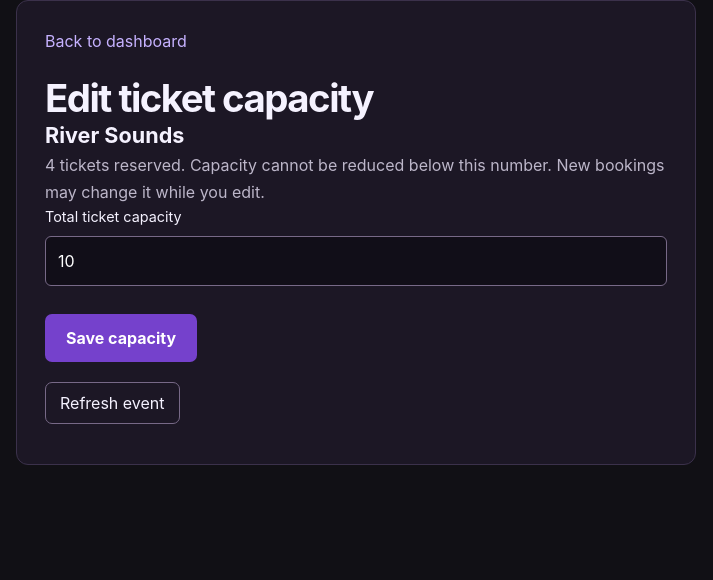
Test: rejects reductions below reserved tickets and shows a server conflict after concurrent bookings
Later steps or results of the test are not shown.
Replace the text in the number field with id "capacity" with "3" at (356, 261), box [45,236,667,286]
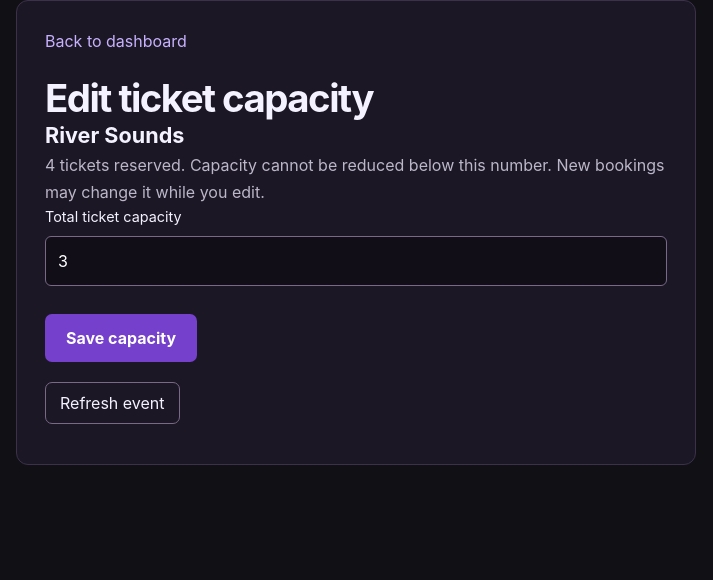
Submit the form, box [45,119,667,374]
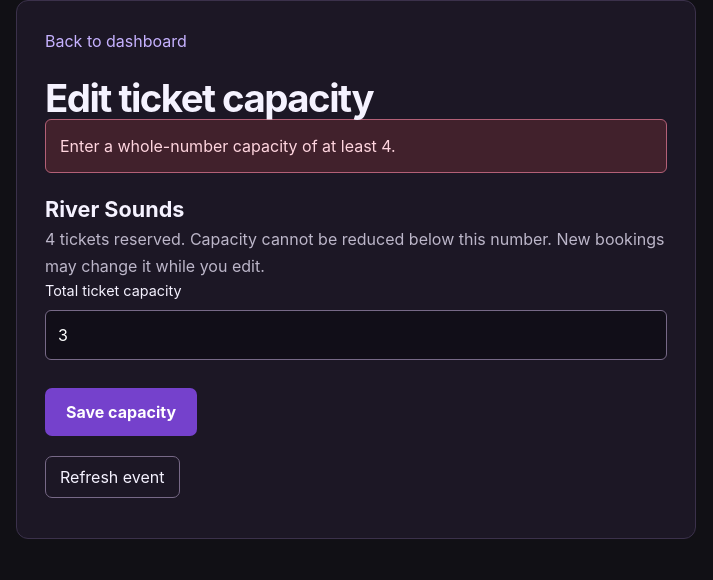
Check: the message "Enter a whole-number capacity of at least 4." is shown, box [45,119,667,173]
Replace the text in the number field with id "capacity" with "5" at (356, 335), box [45,310,667,360]
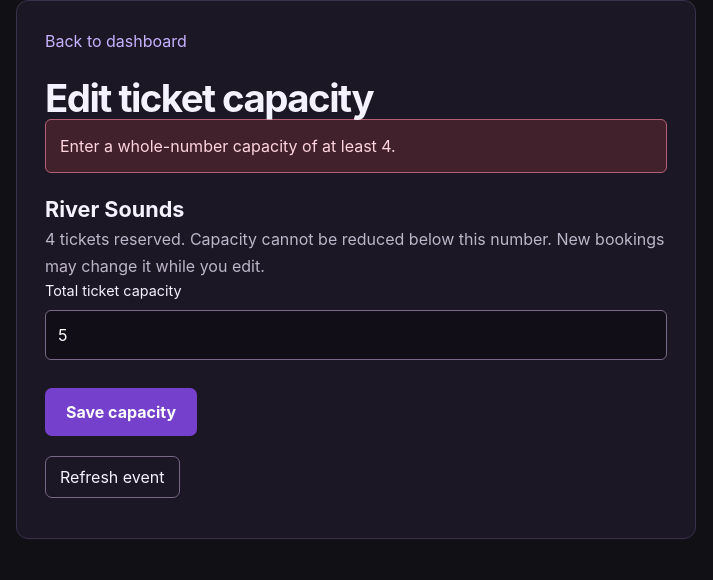
Submit the form, box [45,193,667,448]
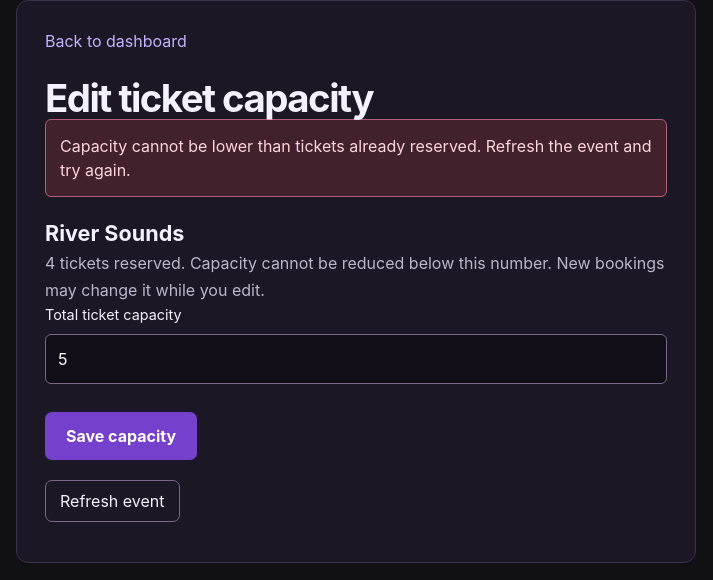
Check: the message shows "Refresh the event", box [60,136,652,180]
